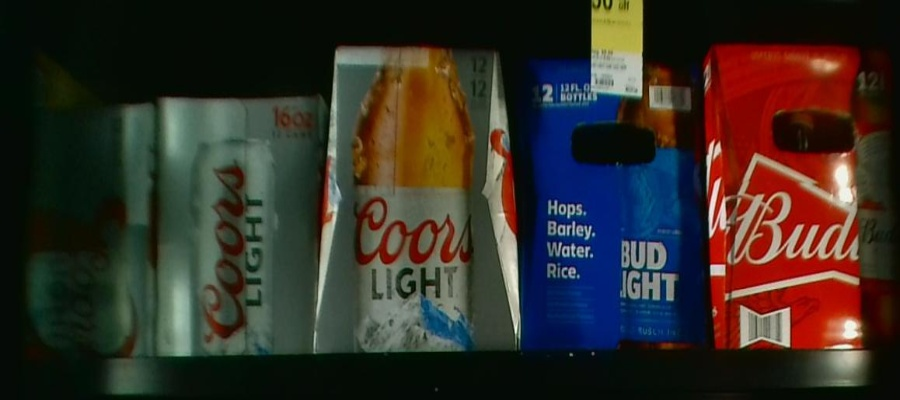bottle: (325, 41, 521, 353), (704, 45, 900, 353), (523, 60, 704, 350), (157, 95, 323, 356), (16, 103, 152, 355)
